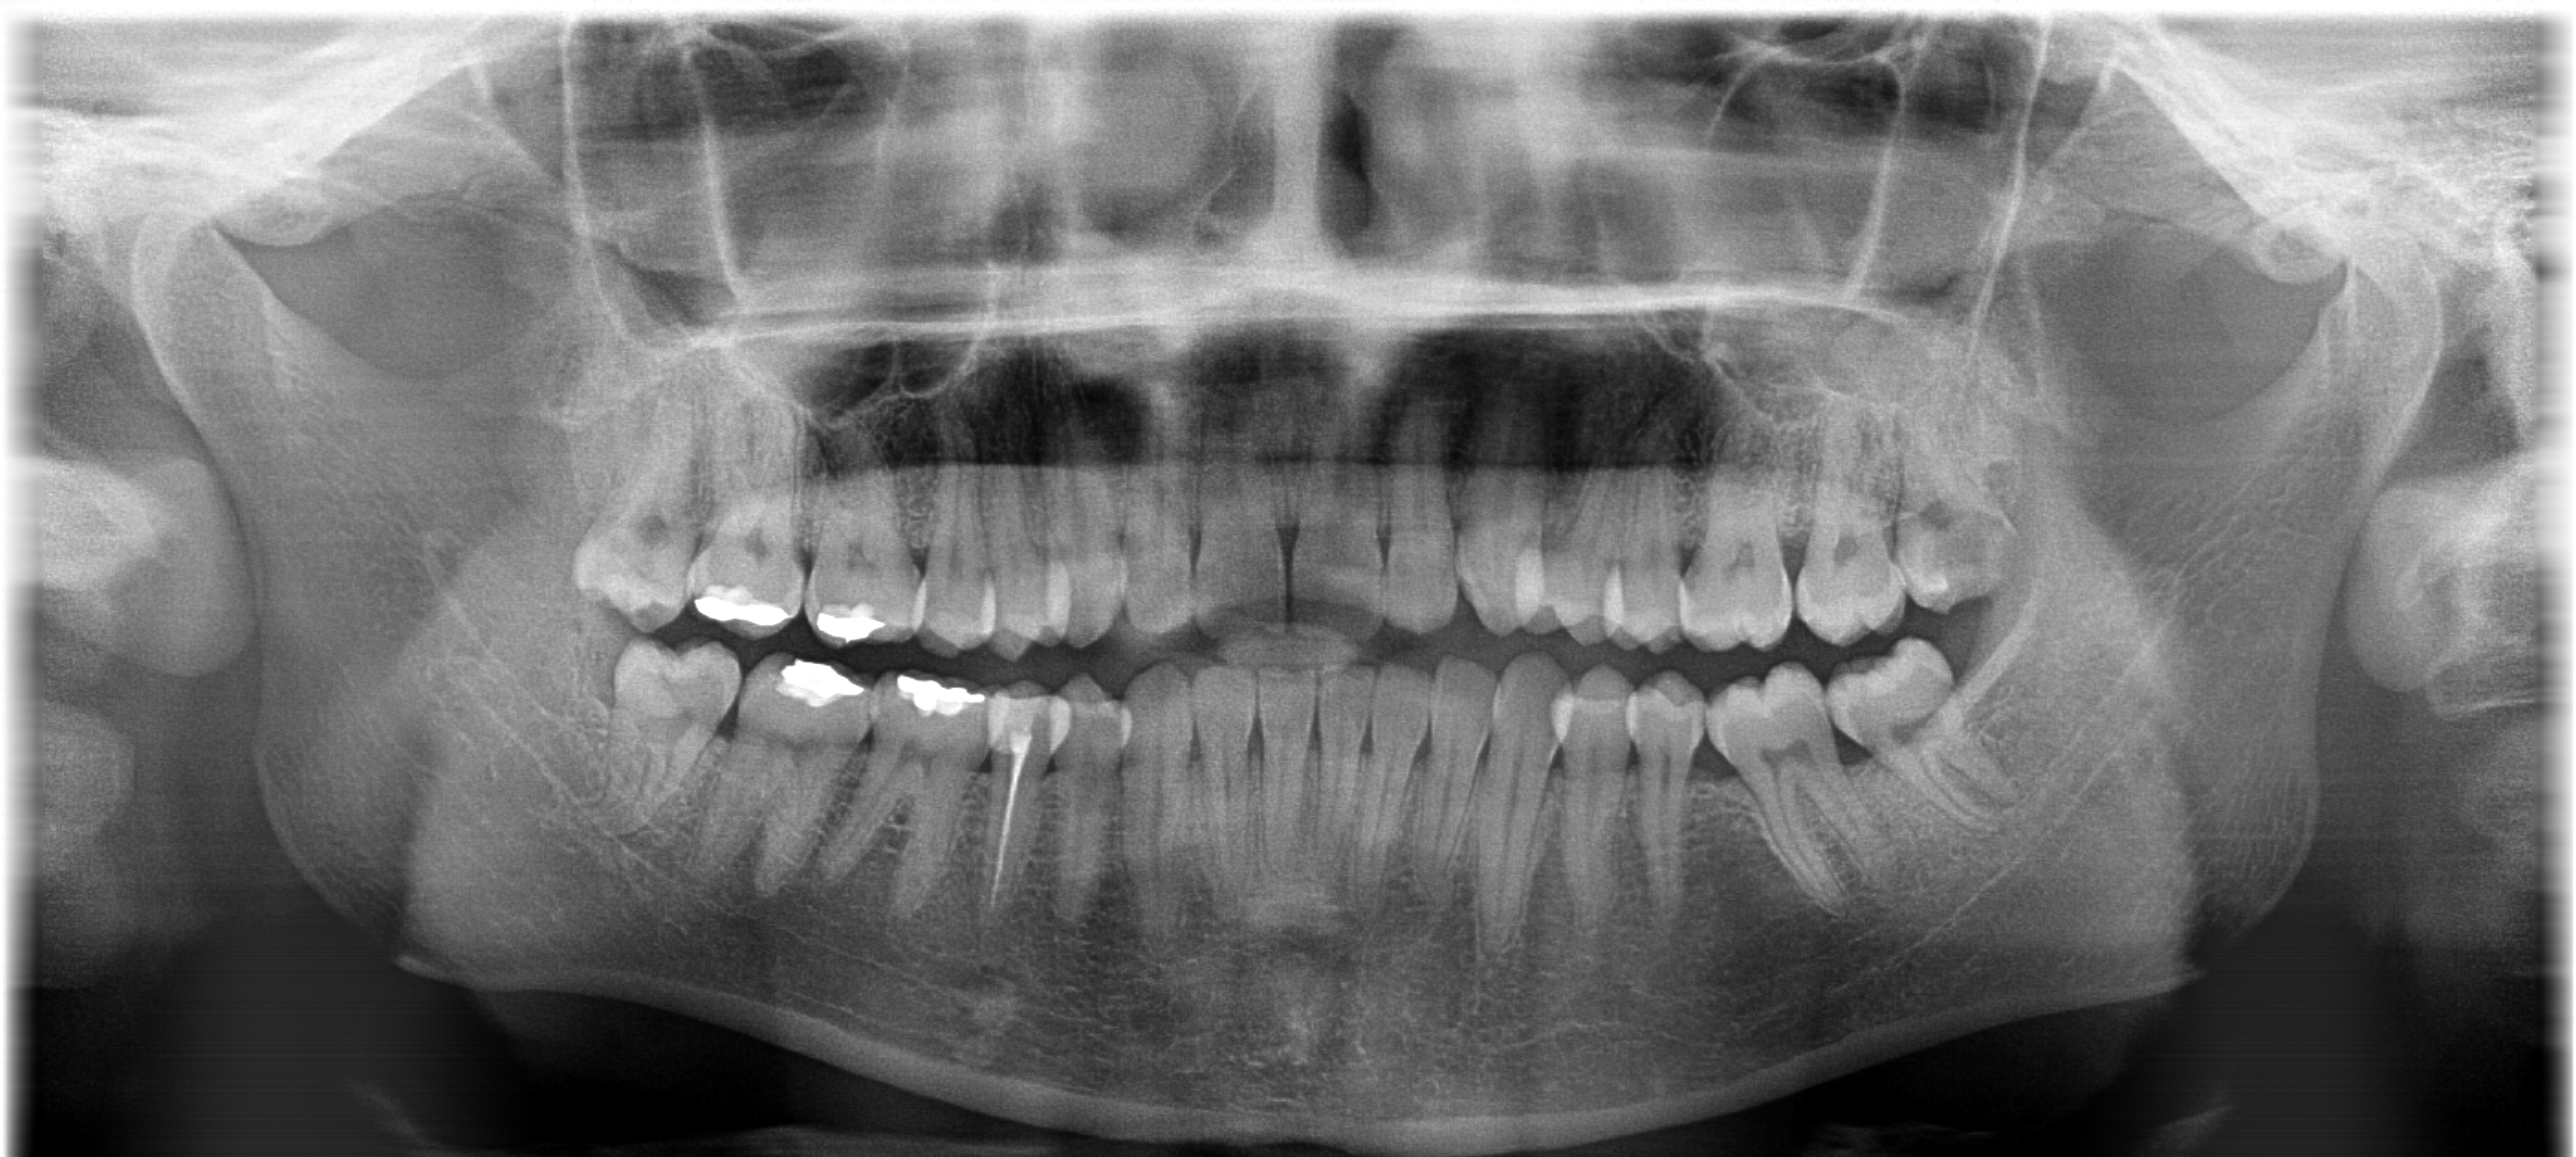cordal: (1879, 358, 2032, 625), (559, 376, 711, 642)
tratamiento_conducto: (956, 663, 1088, 950)
